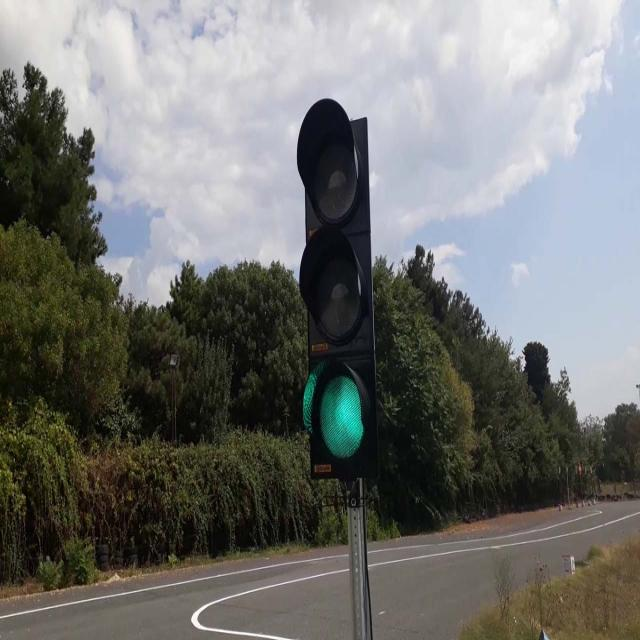yesil: (298, 100, 379, 476)
